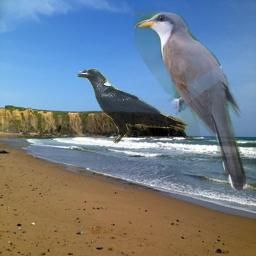Crow: (75, 68, 189, 145)
Cuckoo: (134, 9, 252, 195)
